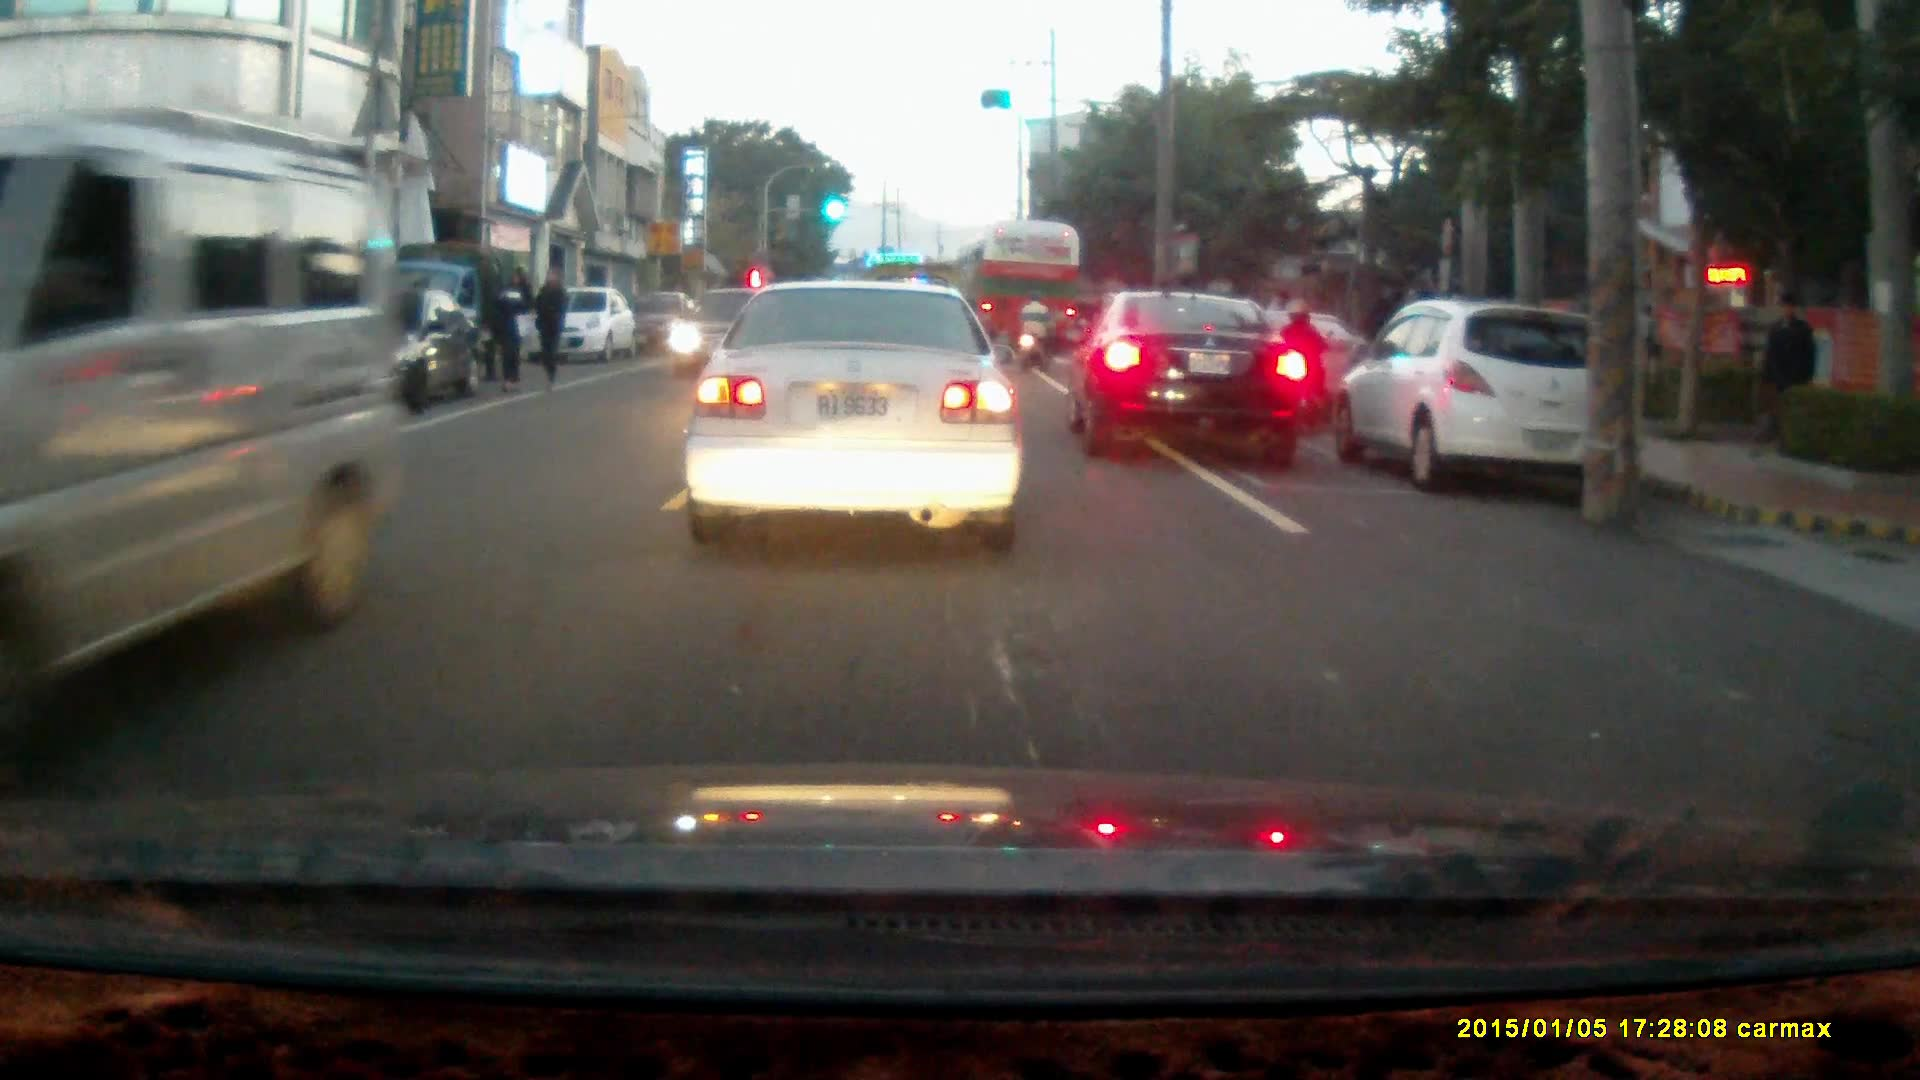pedestrian: (1759, 289, 1819, 458), (488, 265, 531, 392), (530, 262, 568, 397)
rider: (1279, 299, 1335, 440), (1016, 293, 1052, 370)
vehicle: (1, 119, 414, 765), (680, 282, 1028, 557), (1329, 297, 1632, 498), (1067, 293, 1307, 470), (963, 221, 1087, 365), (671, 283, 770, 382), (523, 286, 637, 364)
